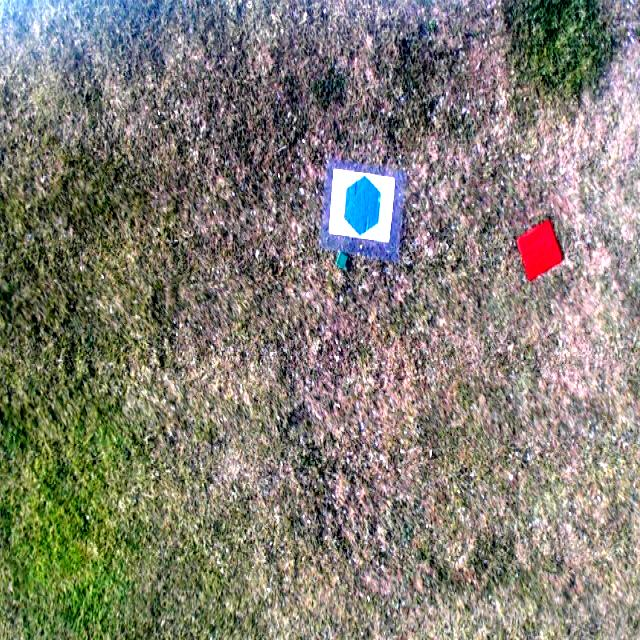blue_hexagon: (344, 174, 380, 236)
red_square: (519, 221, 563, 281)
